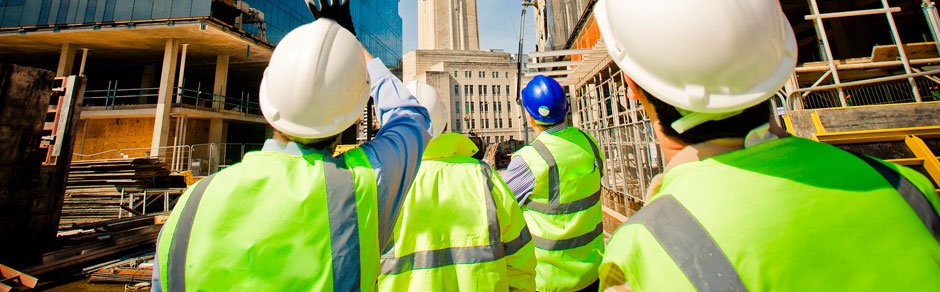Hard Hat: (577, 1, 822, 102), (256, 13, 372, 134), (408, 83, 449, 138), (520, 75, 571, 119)
High Viz: (626, 165, 940, 291), (164, 149, 364, 292), (383, 144, 512, 285), (517, 138, 607, 277)
